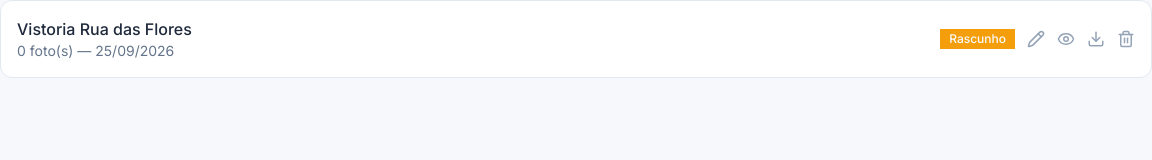
Test: LaudoListItem › shows an error message when the PDF download fails
The width and height of the screenshot is (1152, 160).
Click the button named "baixar pdf": (1096, 39) left=1087, top=30, right=1105, bottom=48
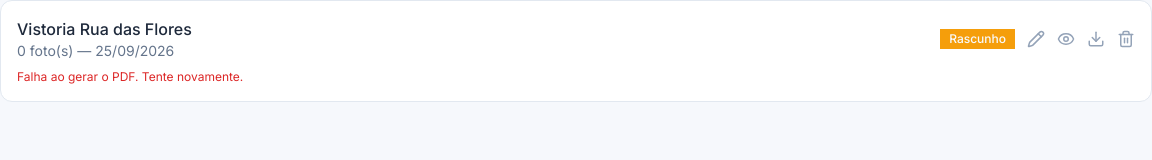
Expected: the text "Falha ao gerar o PDF. Tente novamente." is shown, left=17, top=69, right=243, bottom=84
